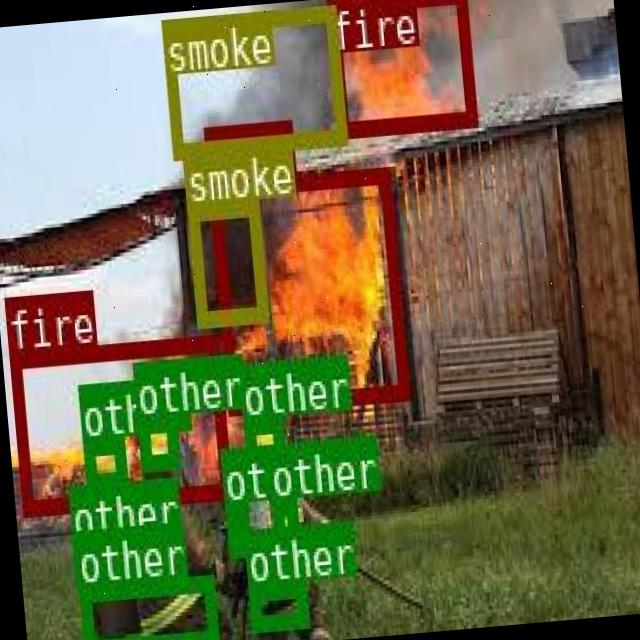fire: (207, 164, 405, 412), (8, 332, 228, 512), (324, 0, 473, 133)
smoke: (158, 1, 343, 156), (186, 196, 264, 325)
